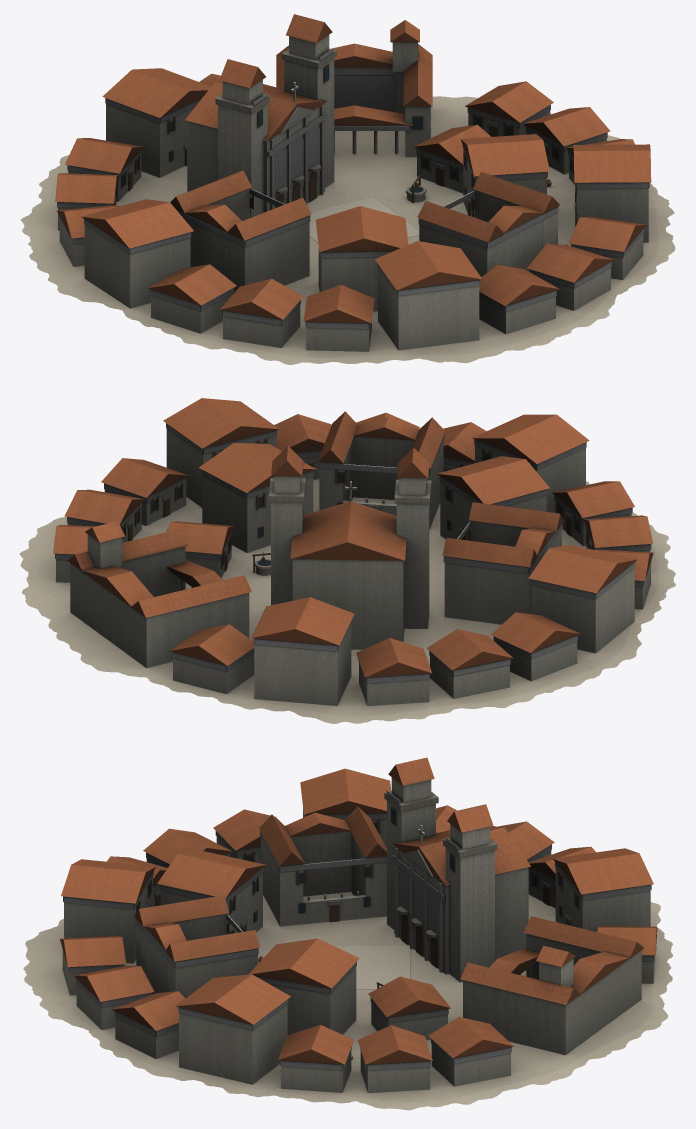
File: gunpowder-town-big-a-americas.glb
The picture shows the model from 3 angles, top to bottom: view 1: azimuth 30°, elevation 25°; view 2: azimuth 150°, elevation 25°; view 3: azimuth 270°, elevation 25°; orthographic projection.
Visible parts, largest first — view 1: LOD0; view 2: LOD0; view 3: LOD0.
Boxes of the visible parts, x1,y1,x2,y2 form: LOD0: (20,14,675,364); LOD0: (19,398,675,723); LOD0: (23,757,672,1110).
Size of what is drawn, in the model's own units: 8.06 by 2.19 by 7.91.
3 materials, 3 textured.
